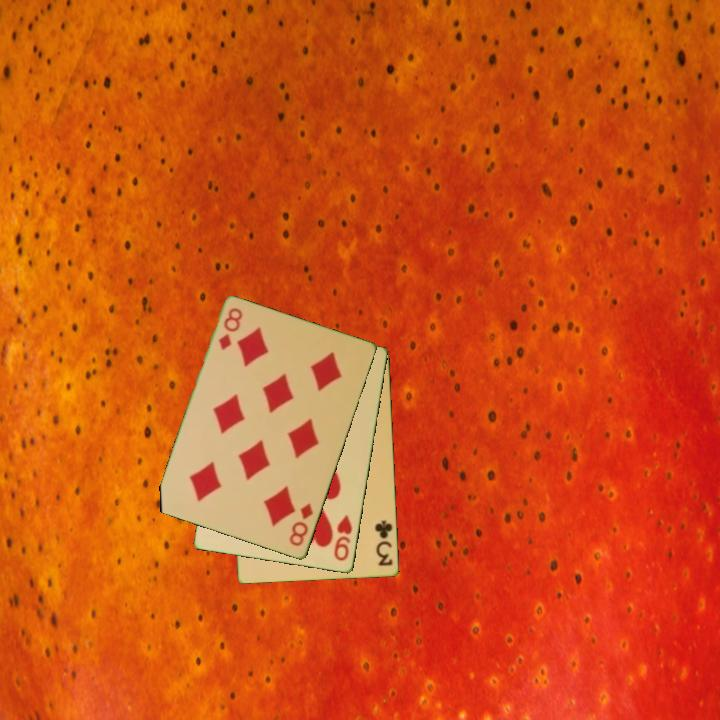3c: (372, 517, 396, 569)
8d: (215, 305, 246, 353), (286, 500, 316, 549)
9h: (331, 511, 355, 564)
